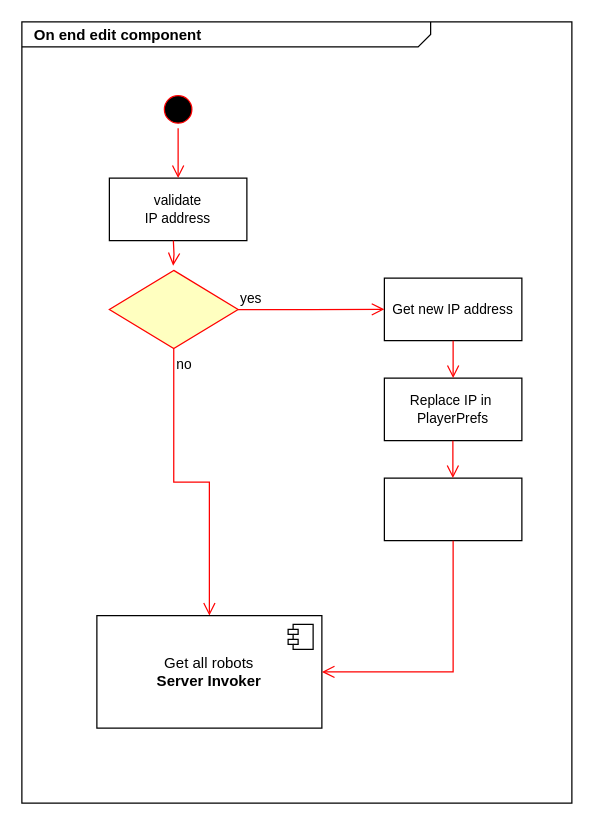
Image size: 594x825. Some labels were removed from this diagram. Each missing label, with the box of its shape:
Update http client base address: (383, 477, 522, 541)
Validation result: (108, 269, 238, 348)
